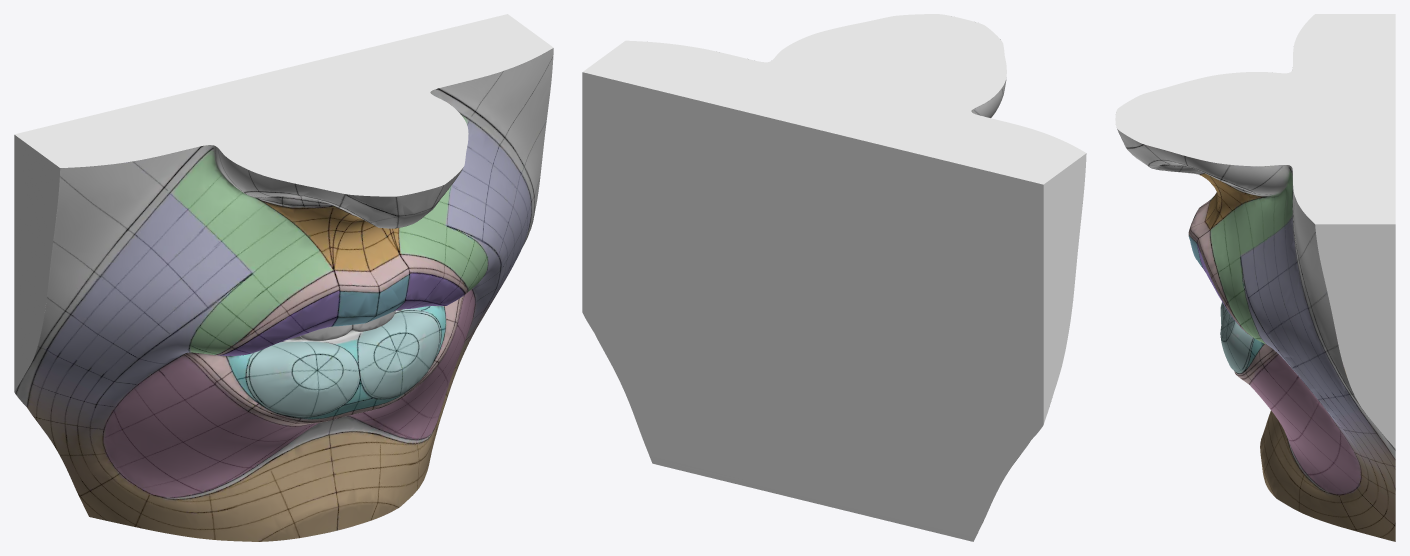
File: 五官_嘴巴_opt.glb
3 renders of one model, left to right at view 1: azimuth 30°, elevation 25°; view 2: azimuth 150°, elevation 25°; view 3: azimuth 270°, elevation 25°, orthographic. The views are drawn at different scales.
Visible parts, largest first — view 1: LipsBlockOutSensual_Low_2, LipsBlockOutSensual_Low_1; view 2: LipsBlockOutSensual_Low_1; view 3: LipsBlockOutSensual_Low_1, LipsBlockOutSensual_Low_2.
Part boxes in pixels (bbox=[...]): LipsBlockOutSensual_Low_2: bbox=[14, 48, 553, 541]; LipsBlockOutSensual_Low_1: bbox=[14, 14, 553, 540]; LipsBlockOutSensual_Low_1: bbox=[582, 14, 1086, 541]; LipsBlockOutSensual_Low_1: bbox=[1115, 14, 1395, 480]; LipsBlockOutSensual_Low_2: bbox=[1117, 129, 1395, 541].
Bounding box in the file's own units: 0.5155 × 0.4 × 0.2903.
Materials: 2 (1 with a texture image).
